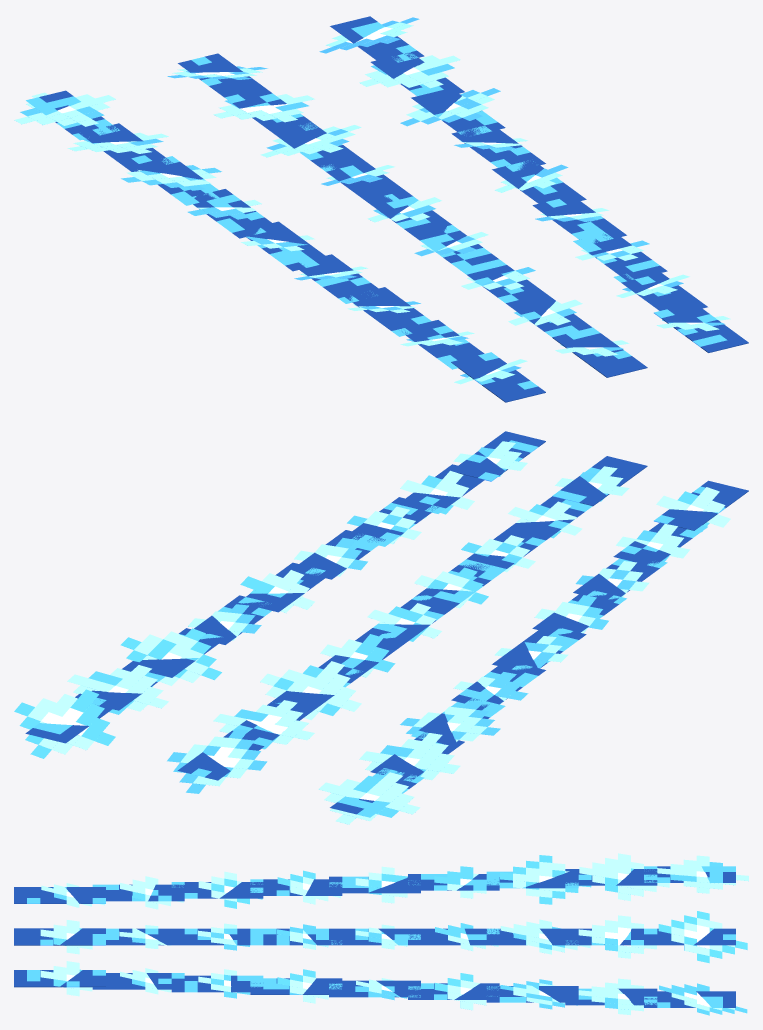
Rendered from vfx_dragon_claw.glb.
3 renders of one model, top to bottom at view 1: azimuth 30°, elevation 25°; view 2: azimuth 150°, elevation 25°; view 3: azimuth 270°, elevation 25°, orthographic. The views are drawn at different scales.
Parts seen in each view (by area): view 1: Scar2_0, Scar0_0, Scar1_0, Scar0_3, Scar2_3, Scar1_8, Scar0_2, Scar2_5, Scar2_8, Scar0_4, Spike0_8, Scar0_7 (+30 smaller); view 2: Spike2_8, Spike2_6, Spike1_6, Spike1_8, Spike0_8, Spike2_7, Spike0_7, Spike1_7, Spike0_6, Scar1_0, Scar2_0, Scar0_0 (+42 smaller); view 3: Spike1_8, Spike0_6, Spike0_7, Spike1_7, Spike0_8, Scar1_0, Scar0_0, Scar2_0, Scar2_4, Scar2_2, Scar1_4, Scar1_5 (+42 smaller).
Boxes of the visible parts, x1,y1,x2,y2 form: Scar2_0: (654, 302, 748, 352); Scar0_0: (451, 352, 545, 402); Scar1_0: (552, 327, 647, 377); Scar0_3: (291, 254, 385, 303); Scar2_3: (532, 195, 626, 243); Scar1_8: (178, 53, 268, 102); Scar0_2: (345, 287, 439, 336); Scar2_5: (451, 124, 545, 170); Scar2_8: (330, 16, 424, 65); Scar0_4: (238, 221, 327, 271); Spike0_8: (14, 92, 115, 126); Scar0_7: (79, 123, 173, 171); Spike2_8: (14, 689, 115, 758); Spike2_6: (120, 628, 221, 686); Spike1_6: (260, 661, 361, 720); Spike1_8: (167, 728, 267, 793); Spike0_8: (318, 772, 420, 824); Spike2_7: (67, 665, 168, 714); Spike0_7: (359, 733, 460, 779); Spike1_7: (213, 700, 314, 749); Spike0_6: (400, 701, 500, 741); Scar1_0: (552, 456, 647, 506); Scar2_0: (451, 431, 545, 481); Scar0_0: (654, 480, 748, 530); Spike1_8: (658, 911, 747, 963); Spike0_6: (500, 855, 591, 904); Spike0_7: (579, 853, 669, 900); Spike1_7: (578, 915, 656, 958); Spike0_8: (657, 855, 748, 893); Scar1_0: (14, 928, 105, 945); Scar0_0: (14, 887, 105, 903); Scar2_0: (14, 970, 105, 987); Scar2_4: (329, 980, 420, 997); Scar2_2: (171, 975, 263, 992); Scar1_4: (329, 928, 420, 945); Scar1_5: (408, 928, 499, 945).
Size of the model in its own units: 5.9 by 0.5032 by 11.2.
